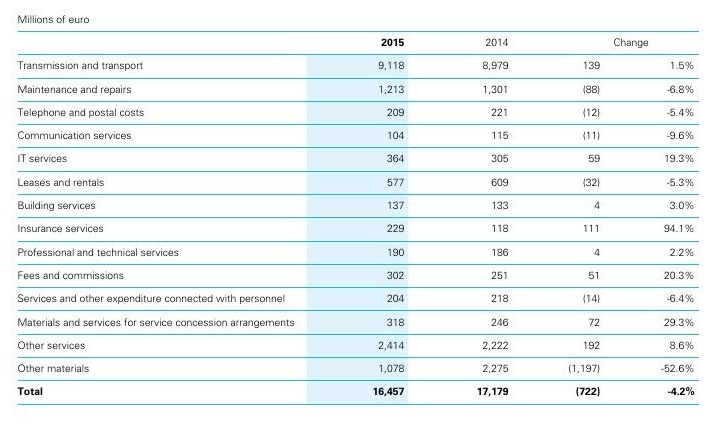table: (0, 0, 719, 424)
